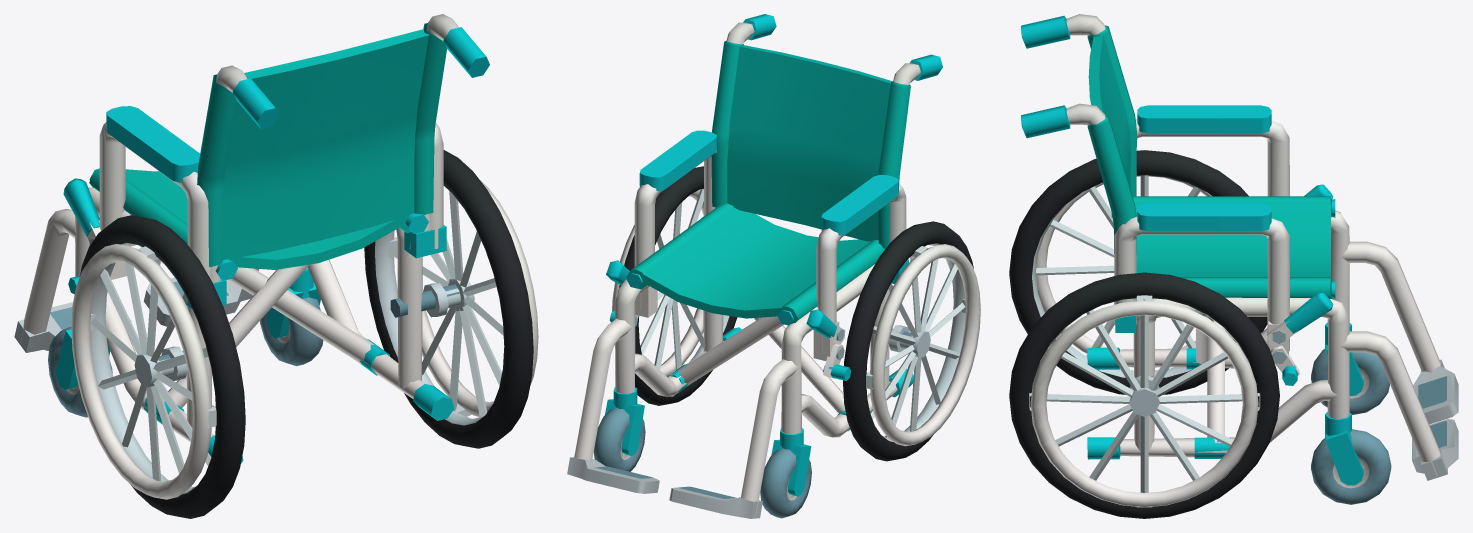
Rendered from Pfb_WheelChair.fbx.
3 views of the same model, side by side, from view 1: azimuth 30°, elevation 25°; view 2: azimuth 150°, elevation 25°; view 3: azimuth 270°, elevation 25° (orthographic). The views are drawn at different scales.
Parts seen in each view (by area): view 1: Color, Metal; view 2: Color, Metal; view 3: Color, Metal.
Part boxes in pixels (left/top/right/bottom): Color: left=14, top=14, right=533, bottom=518; Metal: left=20, top=122, right=538, bottom=499; Color: left=567, top=14, right=973, bottom=518; Metal: left=574, top=150, right=980, bottom=516; Color: left=1009, top=14, right=1458, bottom=518; Metal: left=1029, top=119, right=1440, bottom=507.
Bounding box in the file's own units: 0.829 × 1.06 × 1.09.
Materials: 2 (2 with a texture image).
